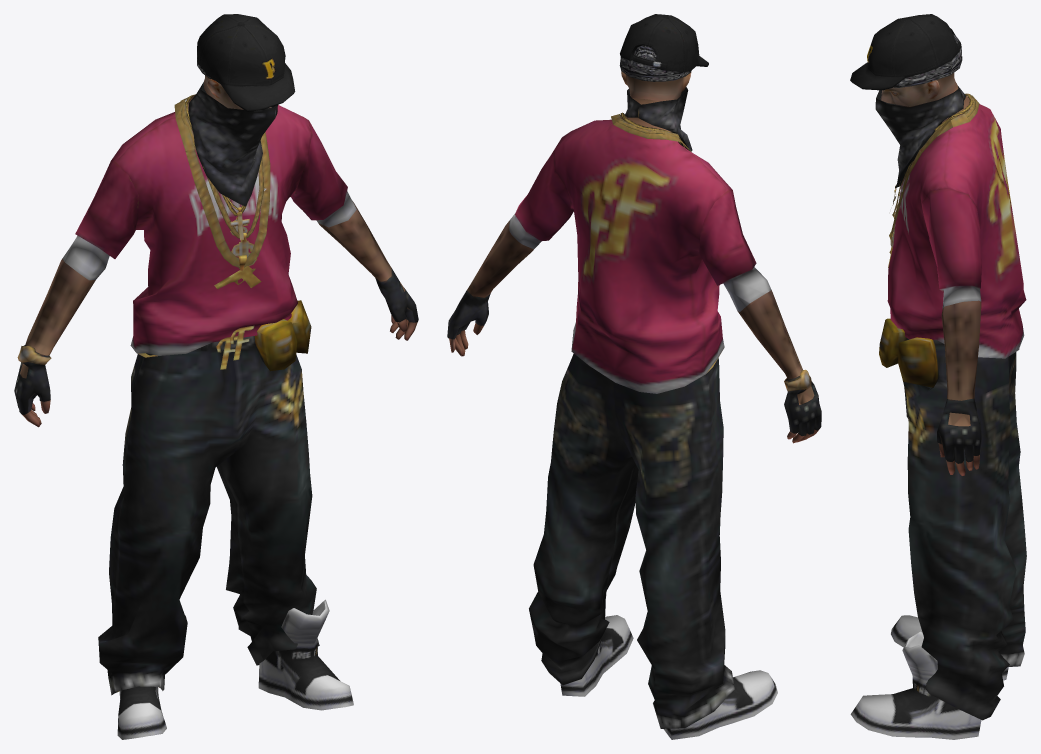
The picture shows the model from 3 angles, left to right: view 1: azimuth 30°, elevation 25°; view 2: azimuth 150°, elevation 25°; view 3: azimuth 270°, elevation 25°; orthographic projection. The views are drawn at different scales.
Visible parts, largest first — view 1: Mesh_0007.rip; view 2: Mesh_0007.rip; view 3: Mesh_0007.rip.
Part boxes in pixels (left/top/right/bottom): Mesh_0007.rip: left=14, top=14, right=418, bottom=739; Mesh_0007.rip: left=447, top=14, right=821, bottom=739; Mesh_0007.rip: left=850, top=14, right=1026, bottom=739.
Bounding box in the file's own units: 1.09 × 1.88 × 0.4379.
1 material, 1 textured.
